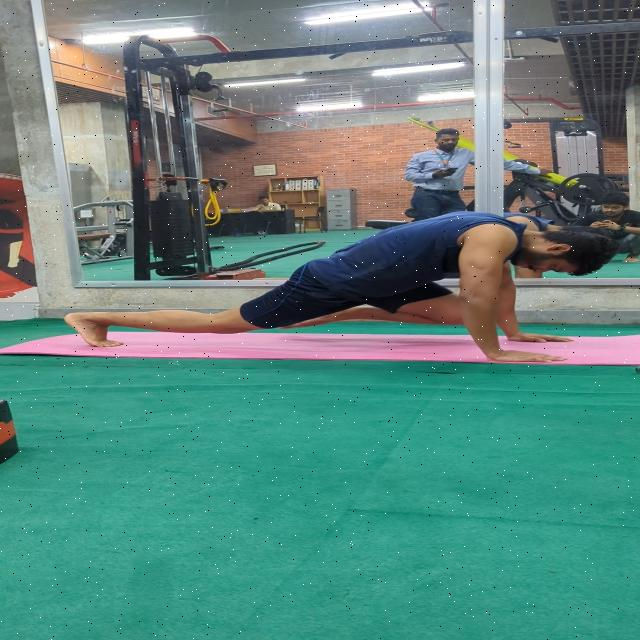Normal_MountainClimbers: (42, 198, 624, 363)
